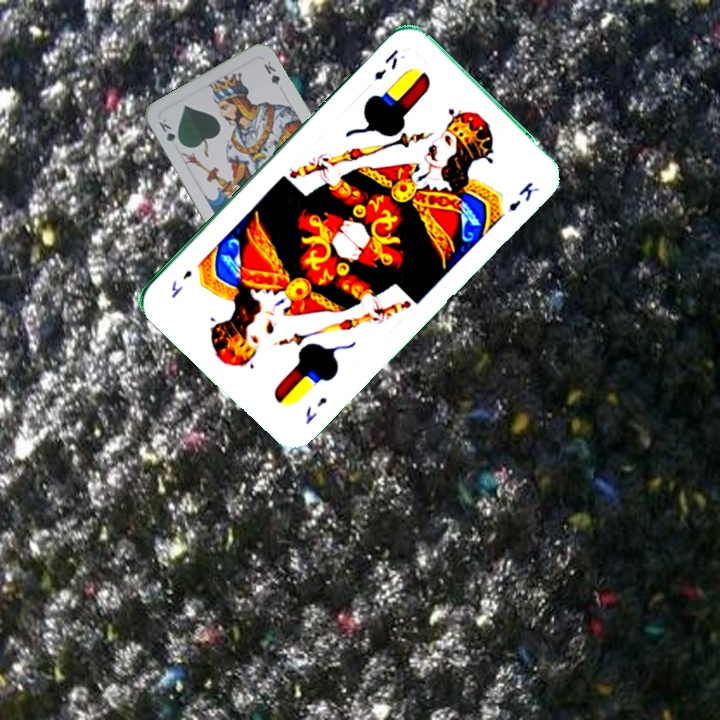EK: (370, 45, 401, 83), (301, 393, 330, 427)
GK: (154, 114, 185, 149)
